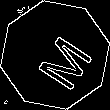M_NW: (21, 22, 89, 88)
